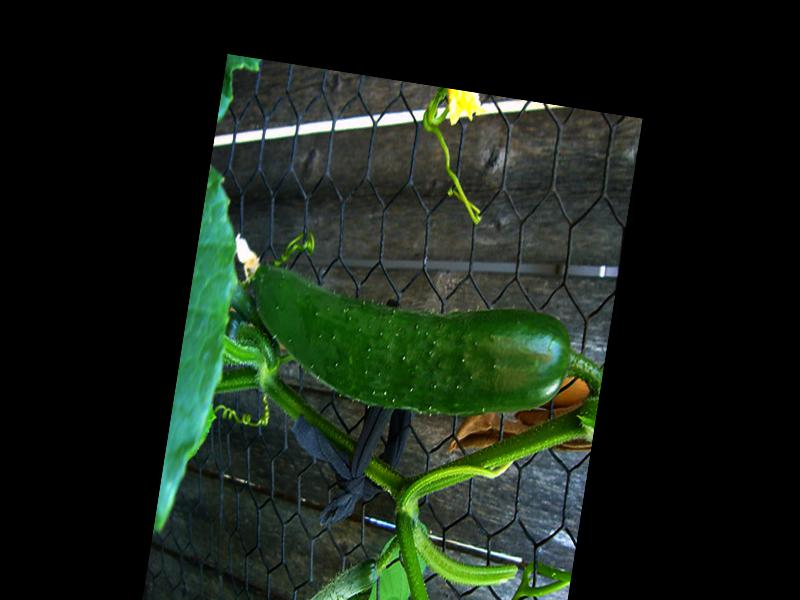Cucumber: (239, 261, 576, 436)
